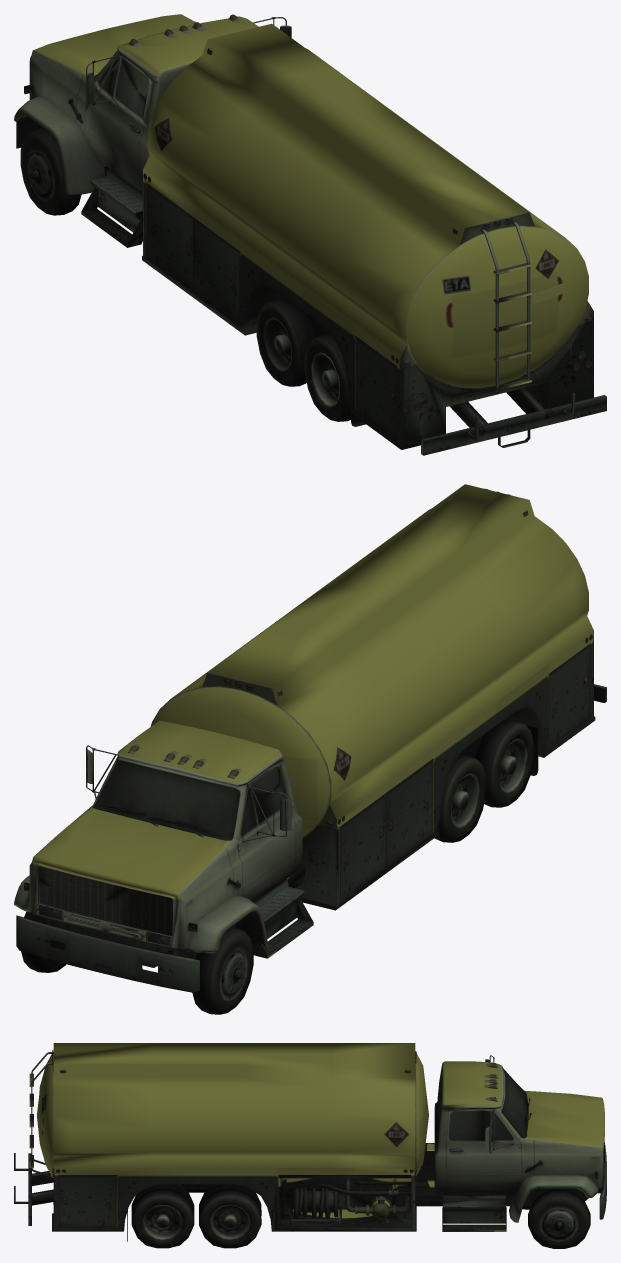
File: af_fuel.glb
3 views of the same model, one above another, from view 1: azimuth 30°, elevation 25°; view 2: azimuth 150°, elevation 25°; view 3: azimuth 270°, elevation 25° (orthographic). The views are drawn at different scales.
Visible parts, largest first — view 1: body|airport_fuel_truck.tga; view 2: body|airport_fuel_truck.tga; view 3: body|airport_fuel_truck.tga.
Part boxes in pixels (left/top/right/bottom): body|airport_fuel_truck.tga: left=14, top=14, right=606, bottom=455; body|airport_fuel_truck.tga: left=14, top=484, right=606, bottom=1014; body|airport_fuel_truck.tga: left=14, top=1043, right=606, bottom=1248.
Size of the model in its own units: 2.71 by 2.87 by 9.46.
Materials: 2 (1 with a texture image).
